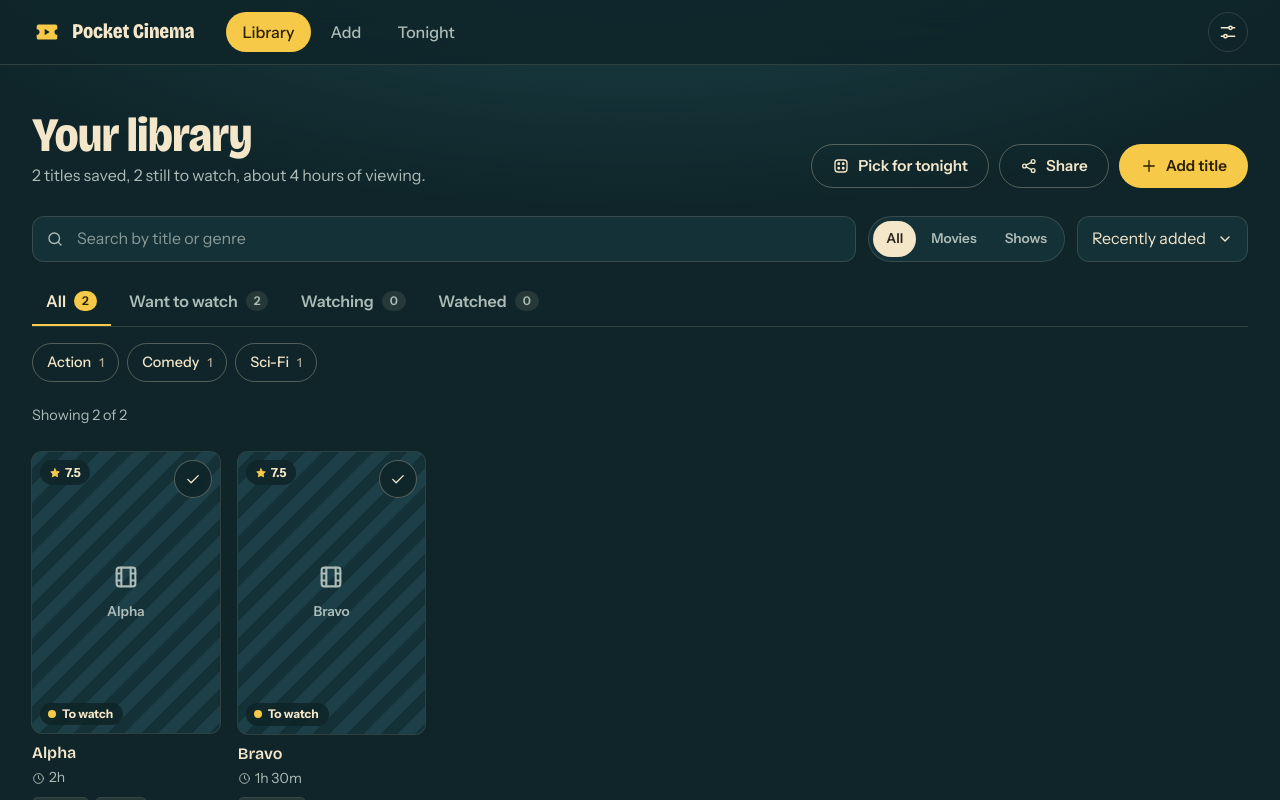
Test: cards show genres without any filter and chips filter them
Expected: the text "2h" is shown, 32,768 -> 65,789
Click the button "Comedy 1".
click(177, 362)  # box 127,343 -> 227,382
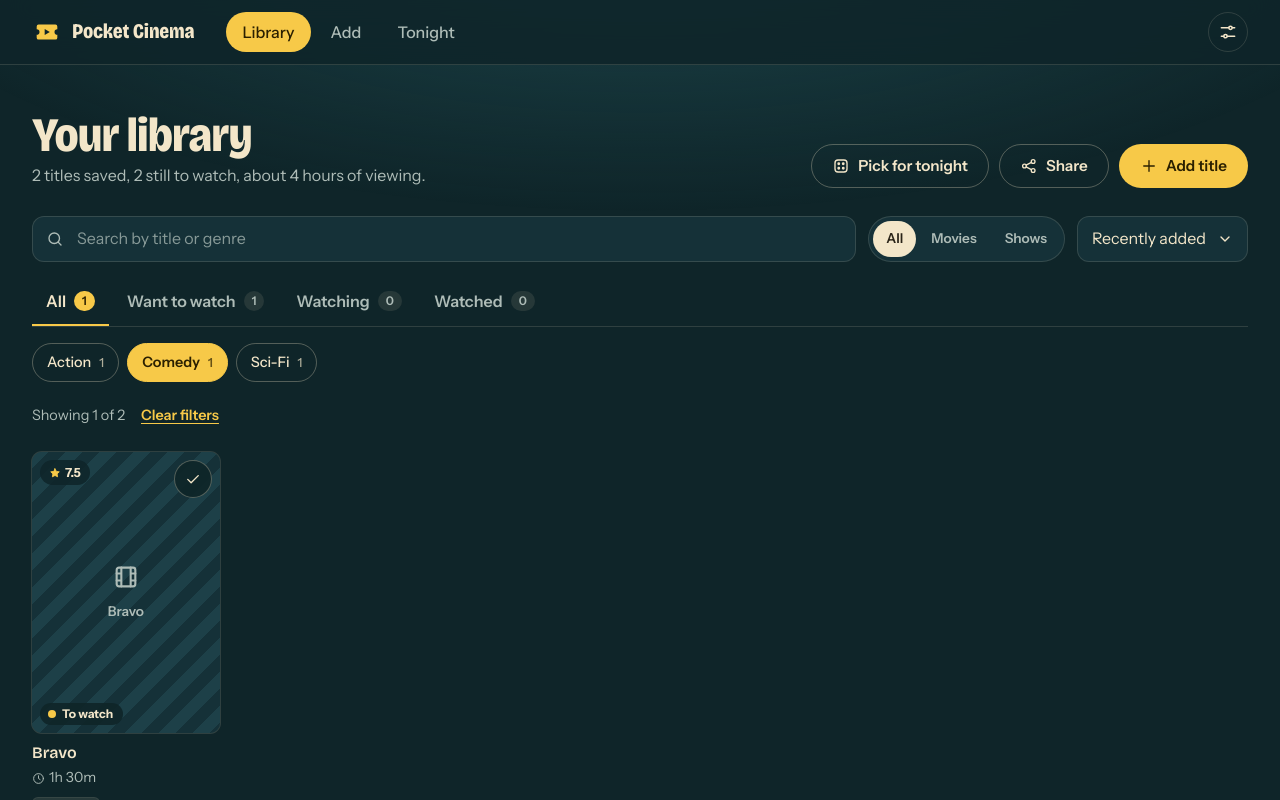
Expected: the heading "Bravo" is shown, 32,744 -> 77,762
Expected: the link "Alpha" is gone
